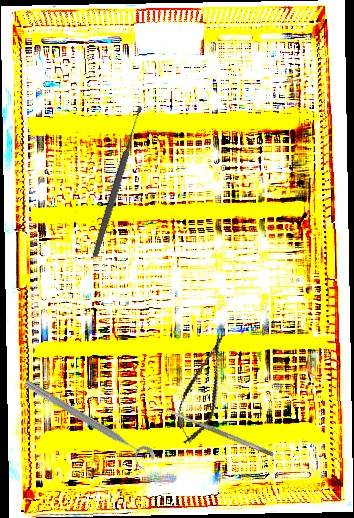Fixation Ring: (17, 375, 158, 473)
Micro Scissor: (168, 327, 238, 450)
Spatula Surgical: (164, 406, 275, 458)
Surgical Spoon: (90, 104, 146, 259)
